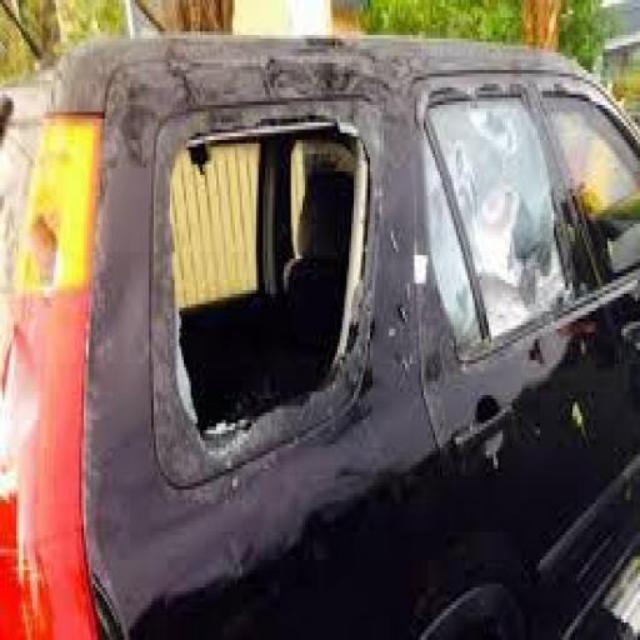glass shatter: (158, 112, 380, 465)
